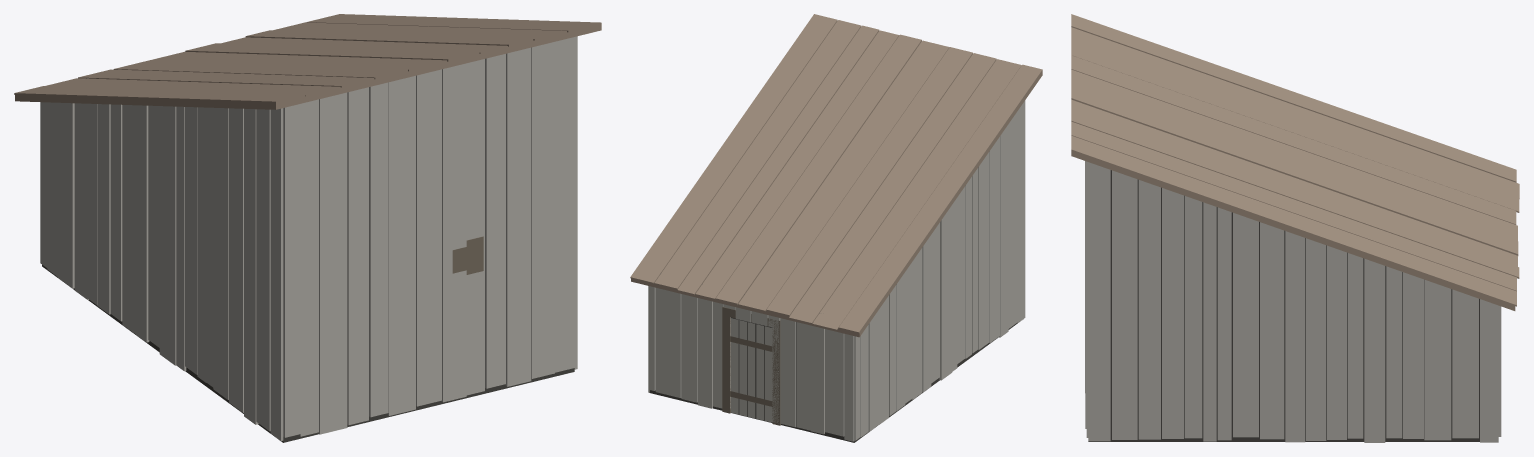
Rendered from recon_1835_south_d2_024__inferred_1835.glb.
3 renders of one model, left to right at view 1: azimuth 30°, elevation 25°; view 2: azimuth 150°, elevation 25°; view 3: azimuth 270°, elevation 25°, orthographic. The views are drawn at different scales.
Visible parts, largest first — view 1: recon_1835_south_d2_024__inferred_1835; view 2: recon_1835_south_d2_024__inferred_1835; view 3: recon_1835_south_d2_024__inferred_1835.
Boxes of the visible parts, left/top/right/bottom form: recon_1835_south_d2_024__inferred_1835: left=14, top=14, right=601, bottom=442; recon_1835_south_d2_024__inferred_1835: left=630, top=14, right=1042, bottom=442; recon_1835_south_d2_024__inferred_1835: left=1071, top=14, right=1519, bottom=442.
Bounding box in the file's own units: 4.66 × 4.83 × 6.53.
